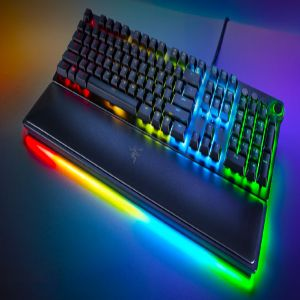keyboard: (22, 5, 283, 282)
